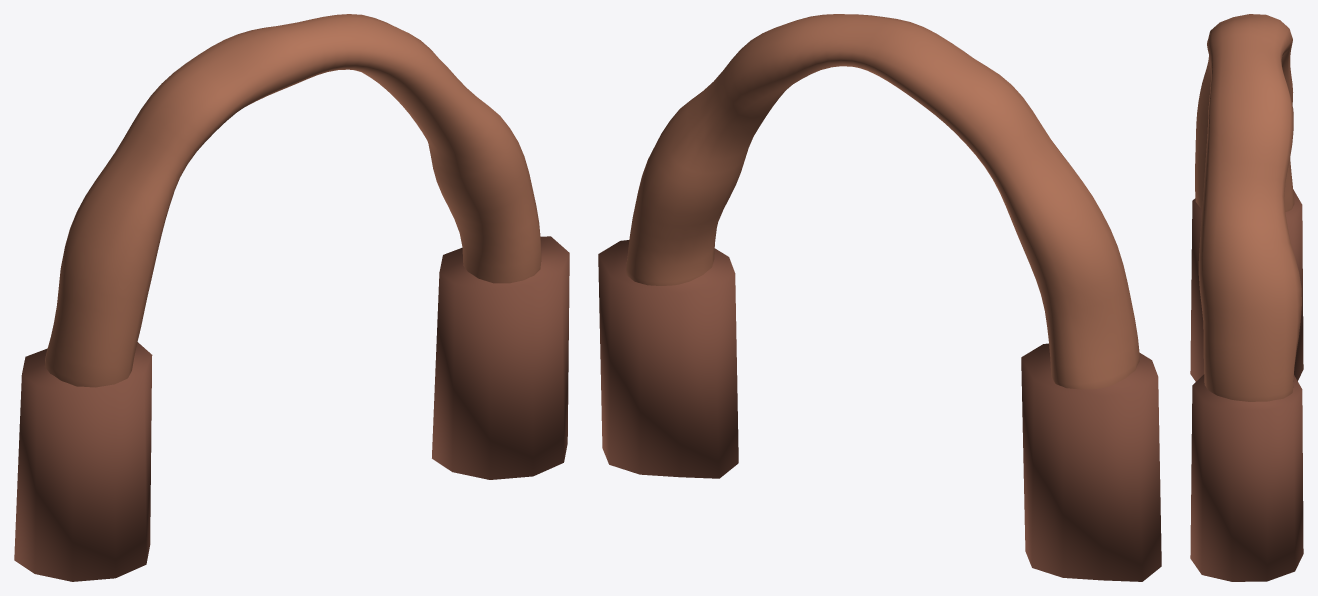
File: Env_Arch.fbx
3 renders of one model, left to right at view 1: azimuth 30°, elevation 25°; view 2: azimuth 150°, elevation 25°; view 3: azimuth 270°, elevation 25°, orthographic. The views are drawn at different scales.
Parts seen in each view (by area): view 1: Rock, RockDark; view 2: Rock, RockDark; view 3: Rock, RockDark.
Boxes of the visible parts, x1=… form: Rock: x1=44, y1=14, x2=541, y2=387; RockDark: x1=14, y1=236, x2=569, y2=581; Rock: x1=626, y1=14, x2=1139, y2=389; RockDark: x1=598, y1=240, x2=1161, y2=581; Rock: x1=1195, y1=14, x2=1301, y2=401; RockDark: x1=1190, y1=189, x2=1303, y2=581.
Size of the model in its own units: 180 by 153 by 36.26.
